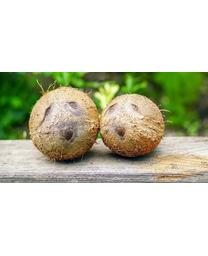coconut: (29, 85, 100, 162), (101, 94, 164, 156)
